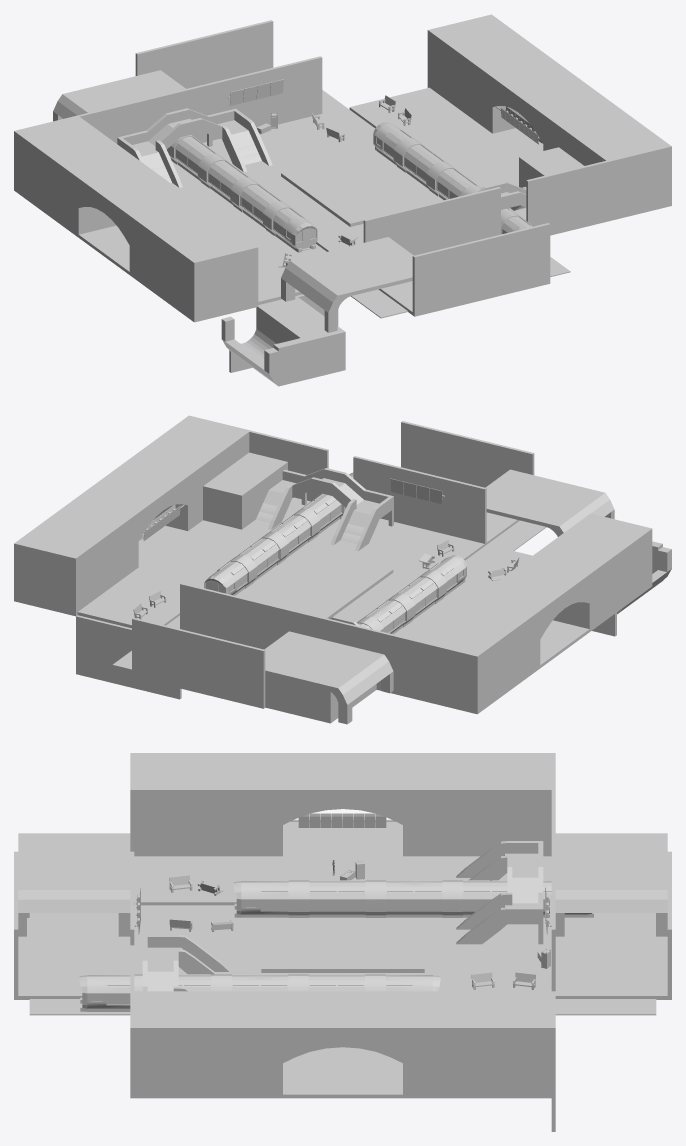
The model's file is Train Station.FBX.
The picture shows the model from 3 angles, top to bottom: view 1: azimuth 30°, elevation 25°; view 2: azimuth 150°, elevation 25°; view 3: azimuth 270°, elevation 25°; orthographic projection. The views are drawn at different scales.
Visible parts, largest first — view 1: Entrance Wall 2, Entrance Wall, Station Floor, Front Area Wall, Front Left Train Tunnel, Front Left Train Tunnel001, Front Right Train Tunnel002, Back Area Wall, Centre Front Wall, Centre Back Wall, Train, Bridge 2 (+8 smaller); view 2: Entrance Wall 2, Entrance Wall, Station Floor, Back Right Train Tunnel, Back Area Wall, Front Left Train Tunnel001, Centre Front Wall, Front Area Wall, Centre Back Wall, Bridge 1, Front Right Train Tunnel002, Train 2 (+8 smaller); view 3: Entrance Wall, Entrance Wall 2, Station Floor, Train, Front Right Train Tunnel002, Front Right Train Tunnel003, Backroom Floor Back, Backroom Floor Front, Train 2, Bridge 2, Box001, Bridge 1 (+6 smaller).
Part boxes in pixels (x1,y1,x2,y2): Entrance Wall 2: (14, 115, 258, 322); Entrance Wall: (427, 14, 671, 221); Station Floor: (171, 87, 526, 304); Front Area Wall: (412, 223, 550, 316); Front Left Train Tunnel: (221, 294, 345, 386); Front Left Train Tunnel001: (519, 147, 635, 235); Front Right Train Tunnel002: (281, 237, 413, 332); Back Area Wall: (135, 20, 273, 88); Centre Front Wall: (363, 187, 500, 255); Centre Back Wall: (185, 56, 322, 142); Train: (167, 134, 317, 252); Bridge 2: (117, 108, 272, 187); Entrance Wall 2: (415, 513, 652, 714); Entrance Wall: (14, 415, 250, 616); Station Floor: (77, 497, 532, 639); Back Right Train Tunnel: (265, 615, 416, 723); Back Area Wall: (132, 618, 265, 708); Front Left Train Tunnel001: (203, 424, 328, 529); Centre Front Wall: (353, 456, 486, 545); Front Area Wall: (401, 421, 534, 487); Centre Back Wall: (180, 583, 312, 649); Bridge 1: (256, 468, 393, 551); Front Right Train Tunnel002: (485, 469, 614, 536); Train 2: (204, 472, 353, 595); Entrance Wall: (130, 991, 555, 1098); Entrance Wall 2: (130, 753, 555, 856); Station Floor: (134, 856, 551, 1057); Train: (233, 880, 593, 917); Front Right Train Tunnel002: (18, 833, 130, 936); Front Right Train Tunnel003: (555, 833, 667, 936); Backroom Floor Back: (555, 918, 667, 999); Backroom Floor Front: (18, 918, 130, 999); Train 2: (79, 974, 440, 1011); Bridge 2: (456, 841, 543, 944); Box001: (261, 937, 424, 972); Bridge 1: (142, 935, 229, 991).
Bounding box in the file's own units: 2149 × 512 × 2173.
1 material, 1 textured.
